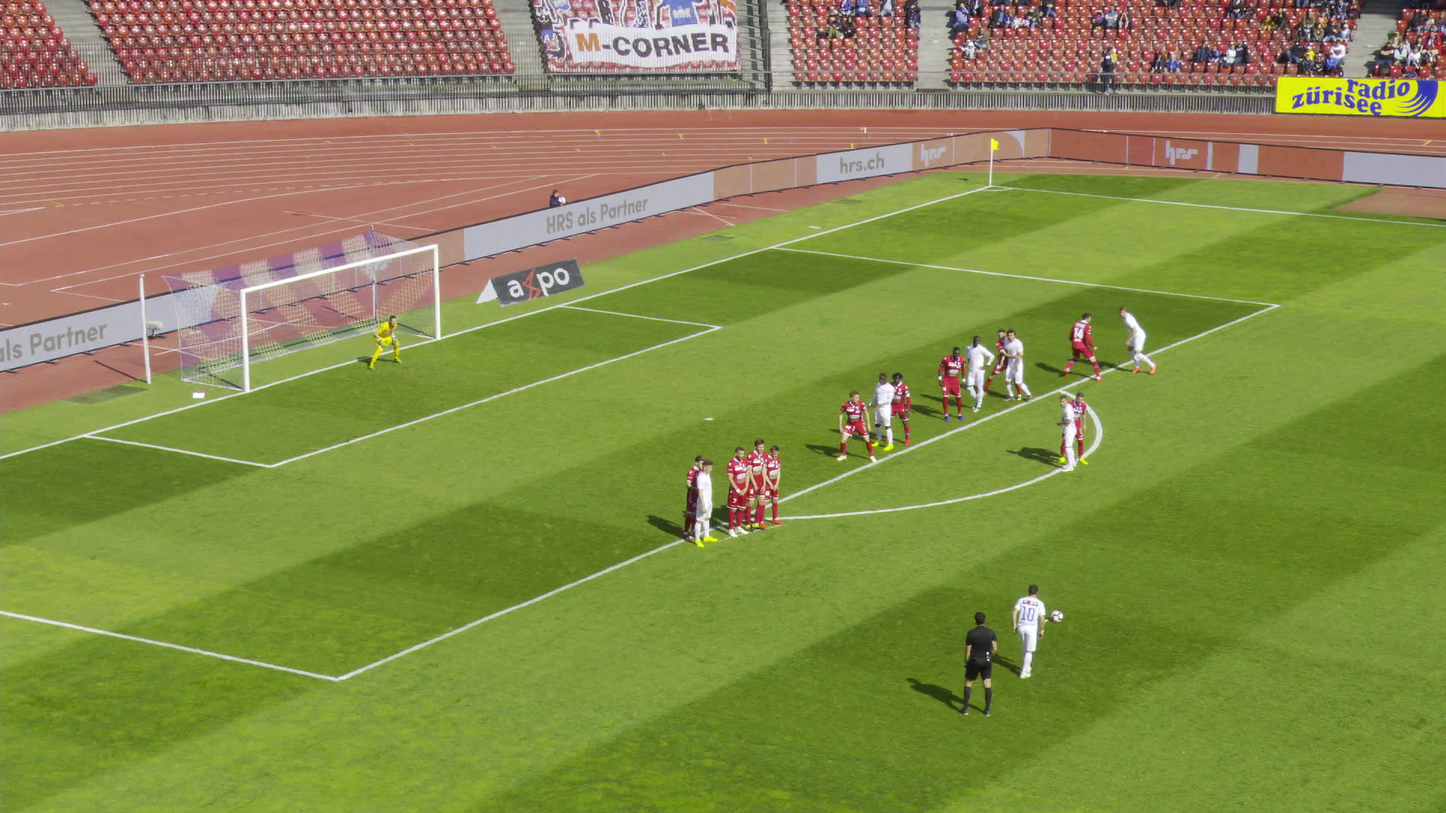ball: (1051, 610, 1062, 622)
player: (835, 390, 876, 463), (1013, 582, 1044, 678), (1118, 307, 1158, 376), (990, 327, 1022, 400), (937, 346, 966, 422), (758, 445, 784, 529), (868, 372, 896, 449), (726, 444, 749, 536), (693, 459, 717, 547), (966, 335, 993, 413), (679, 455, 703, 542), (1059, 393, 1088, 464), (1068, 311, 1097, 381), (1003, 326, 1030, 400), (743, 437, 764, 531), (368, 315, 402, 370), (888, 371, 911, 446), (1060, 394, 1078, 470)
referee: (956, 611, 1000, 715)
